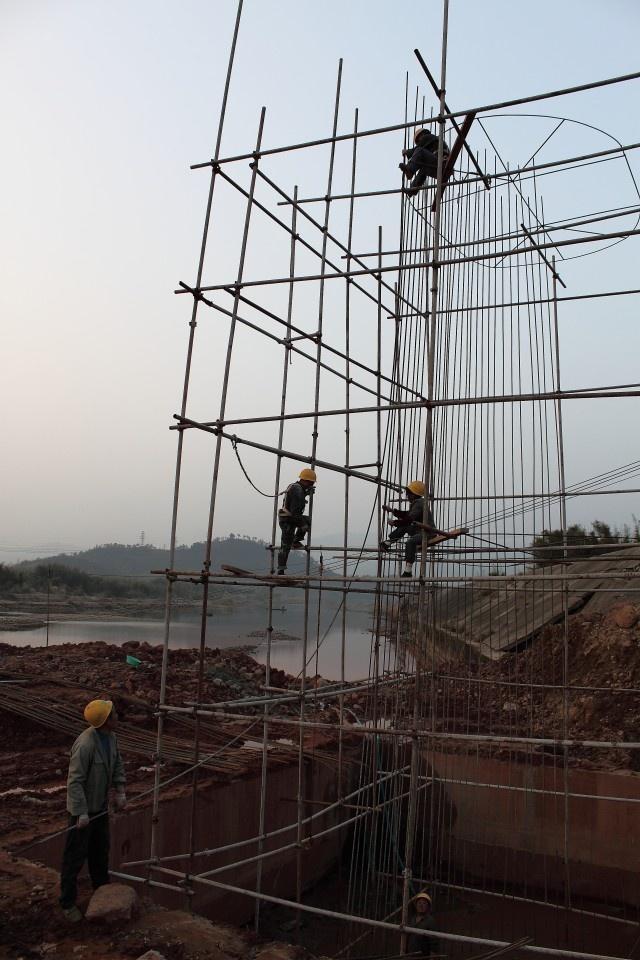Helmet: (82, 697, 120, 736), (404, 479, 424, 503), (299, 468, 317, 491)
